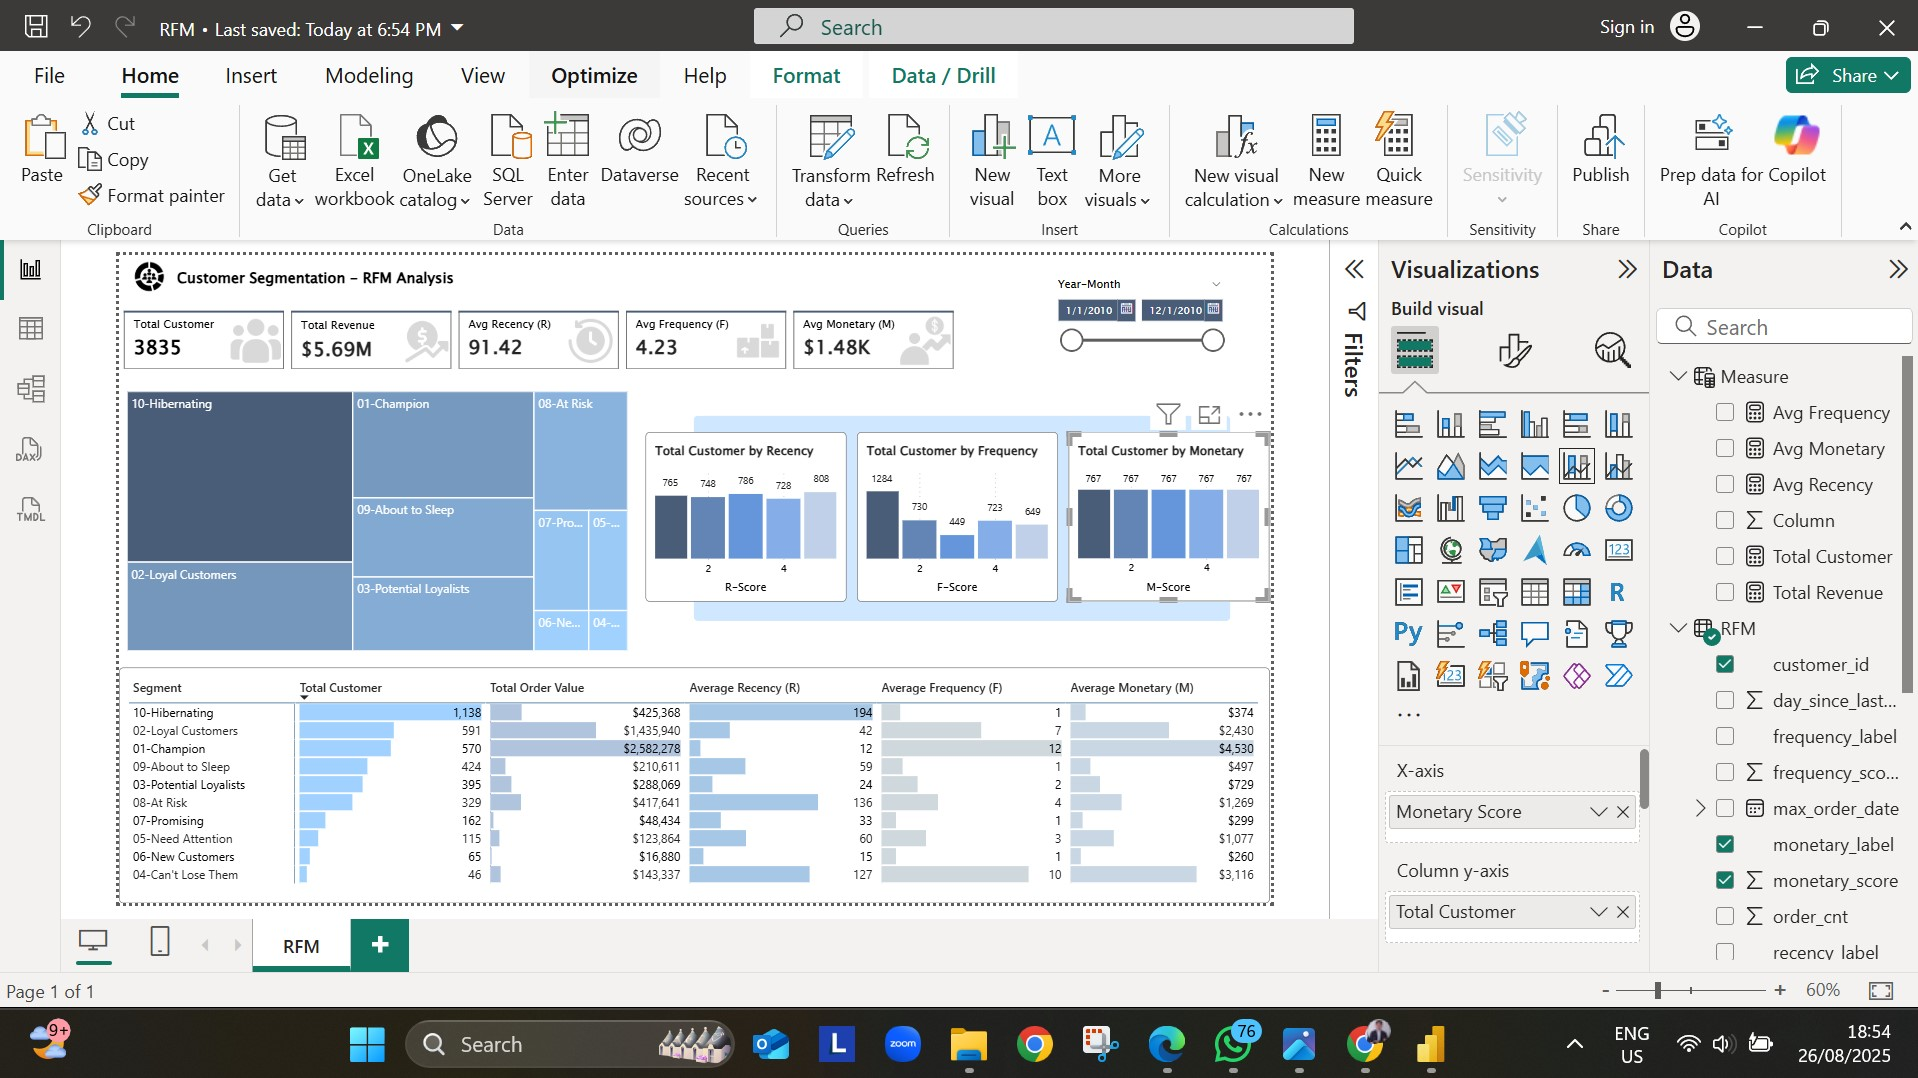

The page's visual inventory and layout, read from the dashboard file:
{"tool":"powerbi","page":{"name":"RFM","canvas":[1280,720],"ordinal":0},"visuals":[{"type":"shape","box":[638.7,179,596.7,228.3],"z":0},{"type":"image","box":[11.7,0,43.3,48.3],"z":1000},{"type":"shape","box":[43,10,350,33],"z":2000},{"type":"lineStackedColumnComboChart","title":"Total Customer by Recency","fields":{"Y":["RFM.customer_id"],"Category":["RFM.recency_score"]},"box":[584.6,197,223.3,188.3],"z":3000},{"type":"lineStackedColumnComboChart","title":"Total Customer by Frequency","fields":{"Y":["RFM.customer_id"],"Category":["RFM.frequency_score"]},"box":[819.6,197,223.3,188.3],"z":4000},{"type":"lineStackedColumnComboChart","title":"Total Customer by Monetary","fields":{"Y":["RFM.customer_id"],"Category":["RFM.monetary_score"]},"box":[1054.8,197.2,223,188],"z":5000},{"type":"treemap","title":"Customer and Revenue Distribution by RFM Segment","fields":{"Group":["RFM.segment"],"Values":["RFM.customer_id"]},"box":[1.7,141.7,570,305],"z":6000},{"type":"pivotTable","title":"Customer and Revenue Distribution by RFM Segment","fields":{"Rows":["RFM.segment"],"Values":["RFM.customer_id","RFM.total_order_value","RFM.day_since_last_order","RFM.order_cnt","RFM.total_order_value"]},"box":[0,458.3,1278.3,261.7],"z":7000},{"type":"cardVisual","fields":{"Data":["Measure.Total Customer","Measure.Total Revenue","Measure.Avg Recency","Measure.Avg Frequency","Measure.Avg Monetary"]},"box":[0,56.7,936.7,75],"z":8000},{"type":"slicer","fields":{"Values":["Transaction.year_month"]},"box":[1030,18.3,206.7,101.7],"z":9000}]}

Visuals, with their boxes on the page's 1280x720 design canvas (x1, y1, x2, y2). These are canvas units, not pixel positions in the 1918x1078 screenshot, which may show the page scaled, cropped or inside an application window:
shape: select_region(639, 179, 1235, 407)
image: select_region(12, 0, 55, 48)
shape: select_region(43, 10, 393, 43)
"Total Customer by Recency" lineStackedColumnComboChart: select_region(585, 197, 808, 385)
"Total Customer by Frequency" lineStackedColumnComboChart: select_region(820, 197, 1043, 385)
"Total Customer by Monetary" lineStackedColumnComboChart: select_region(1055, 197, 1278, 385)
"Customer and Revenue Distribution by RFM Segment" treemap: select_region(2, 142, 572, 447)
"Customer and Revenue Distribution by RFM Segment" pivotTable: select_region(0, 458, 1278, 720)
cardVisual - Measure.Total Customer x Measure.Total Revenue: select_region(0, 57, 937, 132)
slicer - Transaction.year_month: select_region(1030, 18, 1237, 120)
